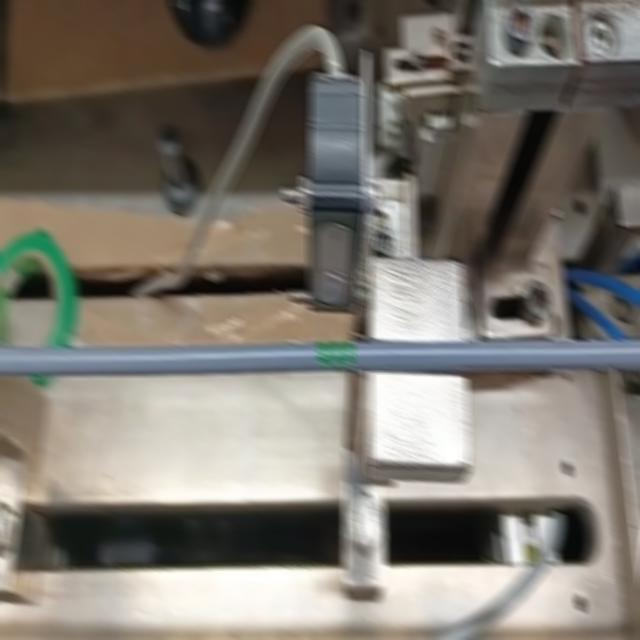green: (317, 340, 354, 371)
